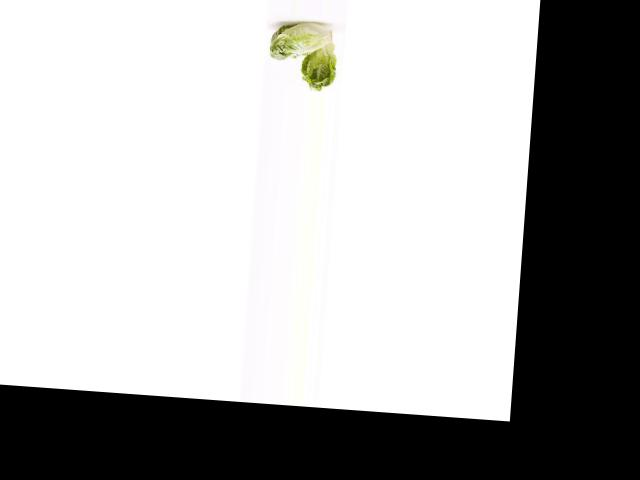lettuce: (264, 17, 337, 68)
